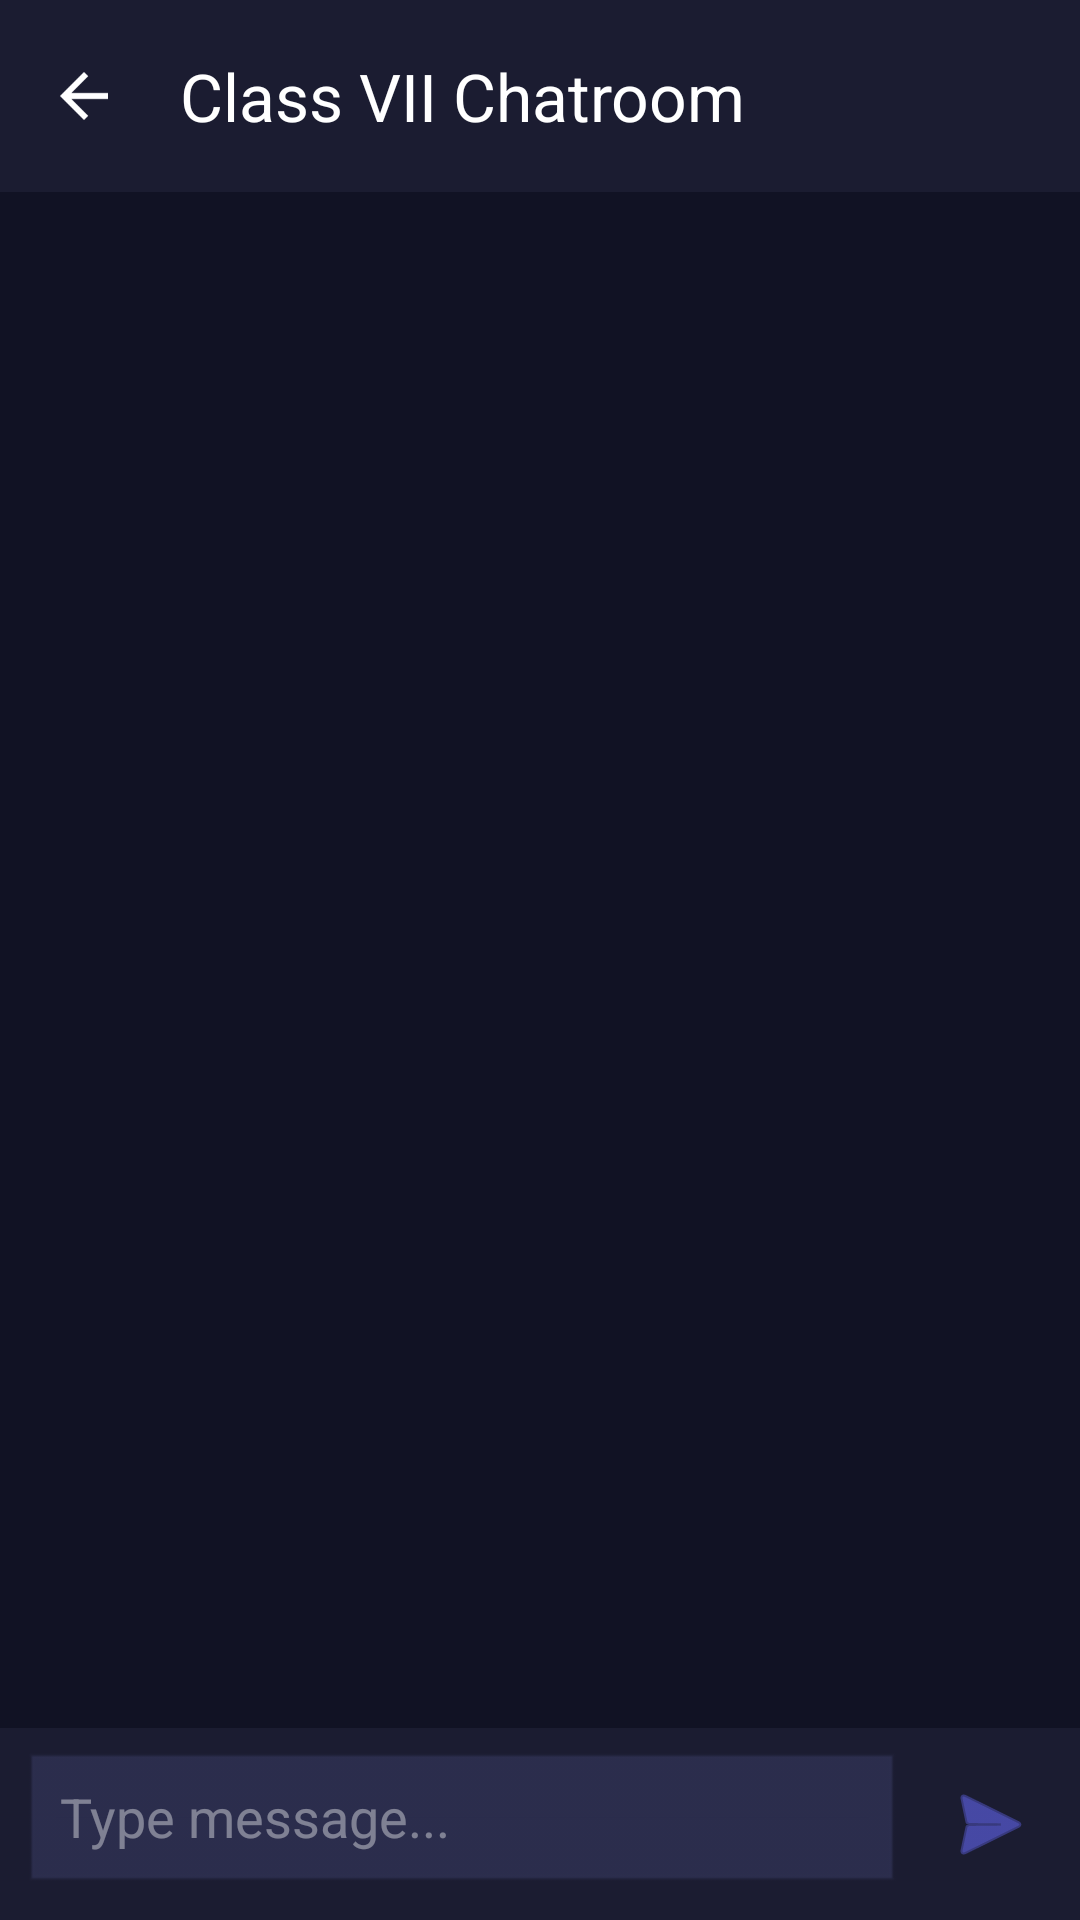

Icon click points for this 1080*1920 phone screenshot, format (x,y):
send: (991,1824)
